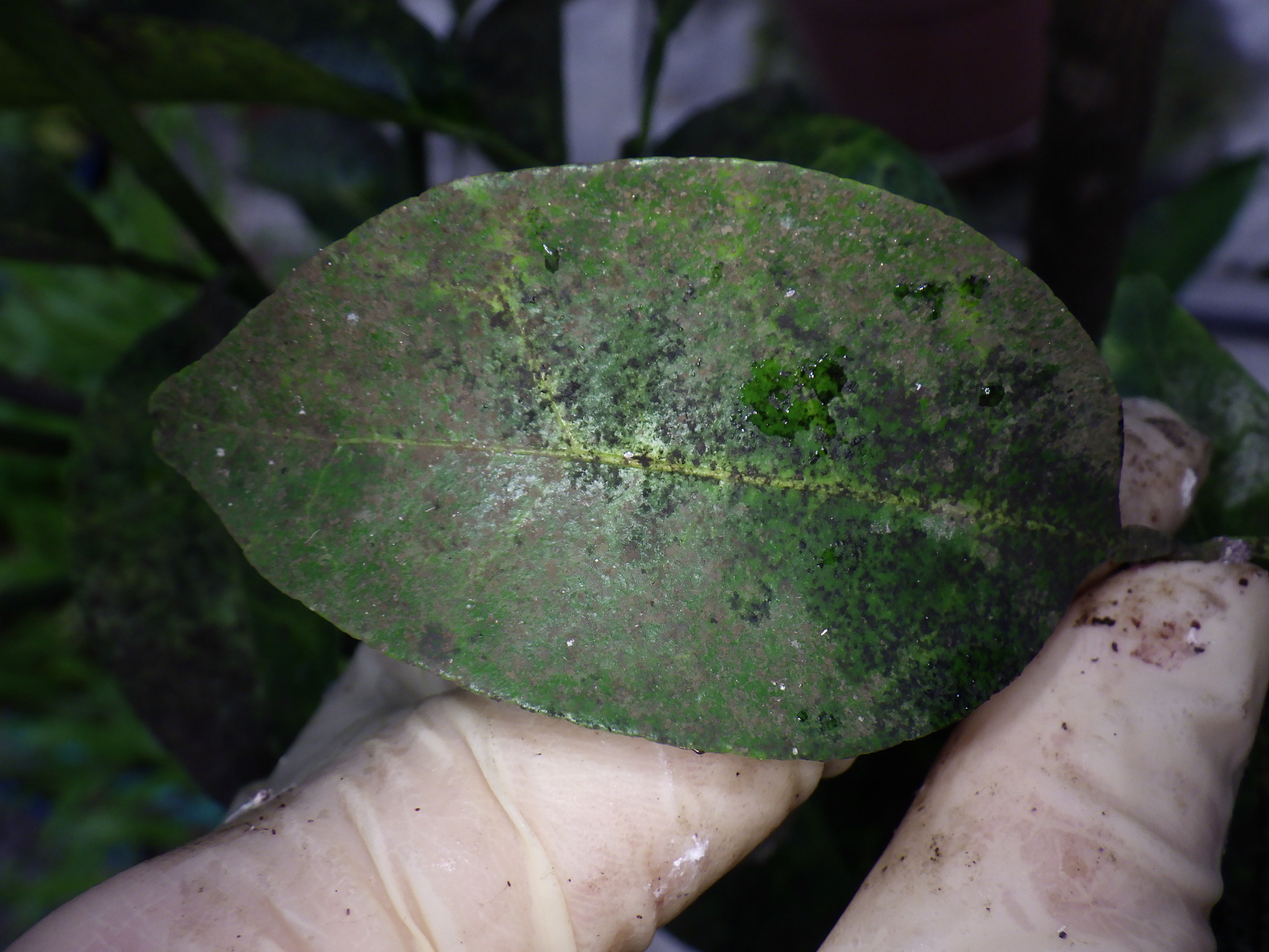Sooty_Mold: (151, 159, 1120, 757)
